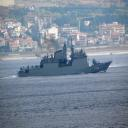Fragata: (18, 38, 115, 79)
